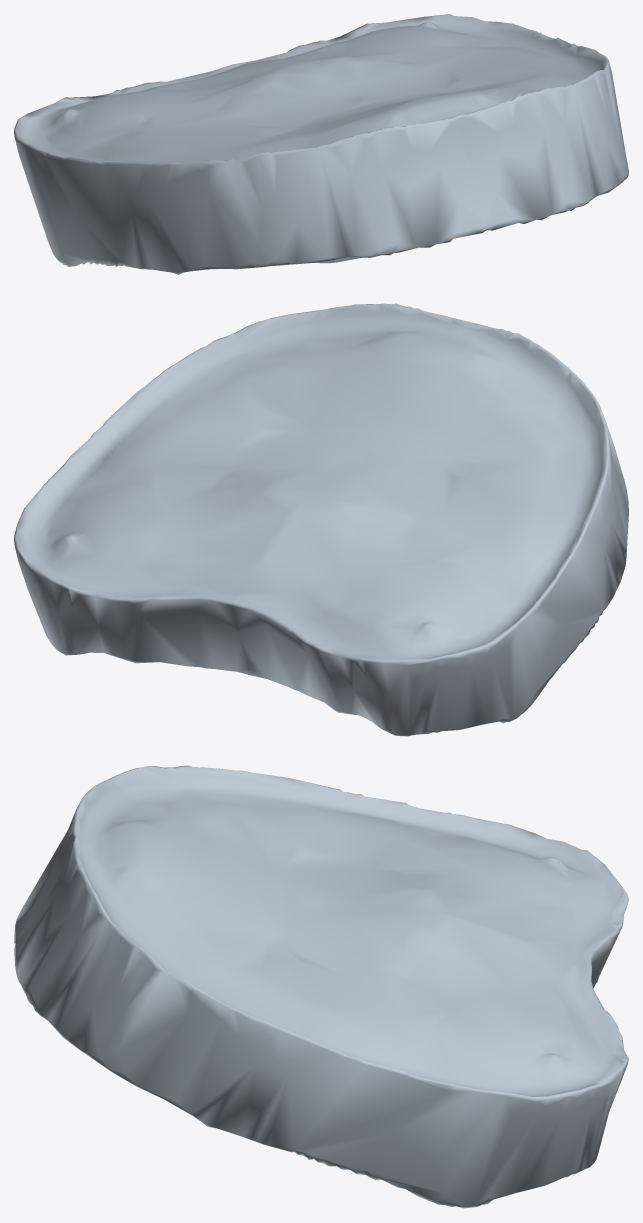
The model's file is intervertebral-disc-t11-t12.glb.
3 renders of one model, top to bottom at view 1: azimuth 30°, elevation 25°; view 2: azimuth 150°, elevation 25°; view 3: azimuth 270°, elevation 25°, orthographic. The views are drawn at different scales.
Parts seen in each view (by area): view 1: Intervertebral disc T11-T12; view 2: Intervertebral disc T11-T12; view 3: Intervertebral disc T11-T12.
Boxes of the visible parts, left/top/right/bottom form: Intervertebral disc T11-T12: left=14, top=14, right=628, bottom=274; Intervertebral disc T11-T12: left=14, top=303, right=628, bottom=736; Intervertebral disc T11-T12: left=14, top=765, right=628, bottom=1208.
Bounding box in the file's own units: 0.0423 × 0.018 × 0.0403.
